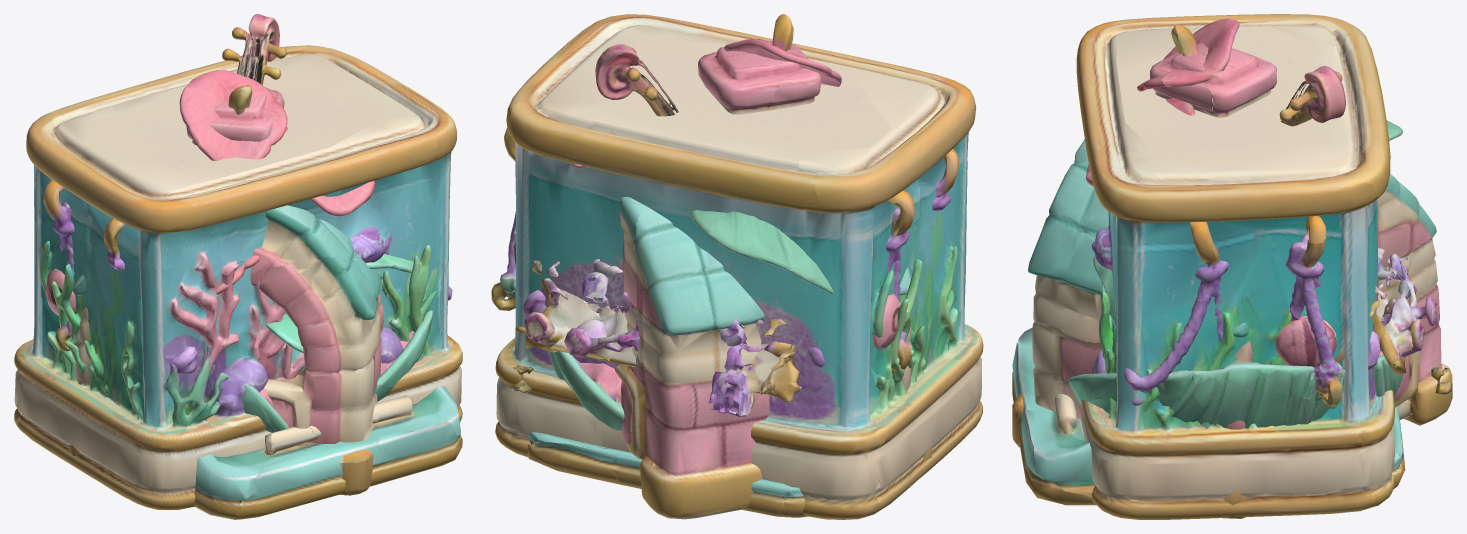
Rendered from store_items_sheet_17_mobile.glb.
The picture shows the model from 3 angles, left to right: view 1: azimuth 30°, elevation 25°; view 2: azimuth 150°, elevation 25°; view 3: azimuth 270°, elevation 25°; orthographic projection. The views are drawn at different scales.
Parts seen in each view (by area): view 1: ac_fish_tank, brick_oven, ac_typewriter, ac_anthurium, hammock, ac_cello; view 2: ac_fish_tank, brick_oven, ac_typewriter, hammock, ac_anthurium, ac_cello; view 3: ac_fish_tank, brick_oven, hammock, ac_typewriter, ac_anthurium, ac_cello.
Part boxes in pixels (x1=…): ac_fish_tank: x1=14, y1=45, x2=462, y2=509; brick_oven: x1=69, y1=87, x2=384, y2=495; ac_typewriter: x1=45, y1=268, x2=462, y2=519; ac_anthurium: x1=179, y1=70, x2=413, y2=359; hammock: x1=43, y1=180, x2=452, y2=432; ac_cello: x1=222, y1=14, x2=286, y2=84; ac_fish_tank: x1=495, y1=14, x2=983, y2=519; brick_oven: x1=594, y1=41, x2=931, y2=519; ac_typewriter: x1=511, y1=242, x2=901, y2=517; hammock: x1=491, y1=128, x2=959, y2=430; ac_anthurium: x1=571, y1=14, x2=841, y2=294; ac_cello: x1=595, y1=44, x2=678, y2=116; ac_fish_tank: x1=1076, y1=14, x2=1395, y2=519; brick_oven: x1=1012, y1=42, x2=1452, y2=518; hammock: x1=1068, y1=216, x2=1403, y2=428; ac_typewriter: x1=1012, y1=247, x2=1451, y2=505; ac_anthurium: x1=1086, y1=18, x2=1402, y2=339; ac_cello: x1=1279, y1=66, x2=1345, y2=126.
Size of the model in its own units: 1.55 by 1.55 by 1.55.
Materials: 1 (1 with a texture image).
